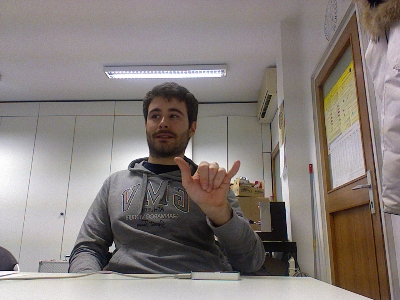六六六: (173, 154, 242, 213)
